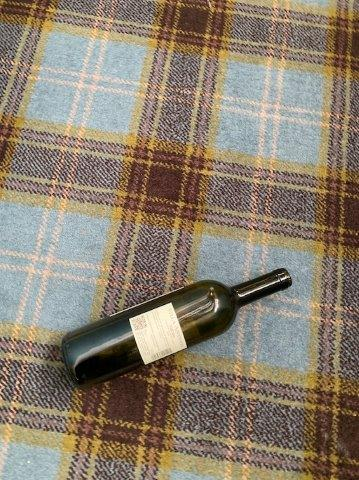botolkaca: (61, 269, 293, 386)
